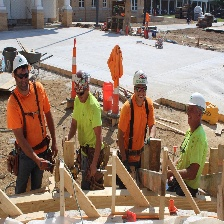helmet: (11, 51, 35, 71), (71, 71, 92, 93), (186, 91, 208, 111), (131, 67, 148, 88)
no-vest: (9, 85, 58, 164), (71, 95, 106, 169), (123, 92, 151, 160), (181, 128, 208, 189)
person: (6, 42, 61, 186), (68, 67, 109, 183), (177, 95, 212, 198), (122, 64, 154, 176)
